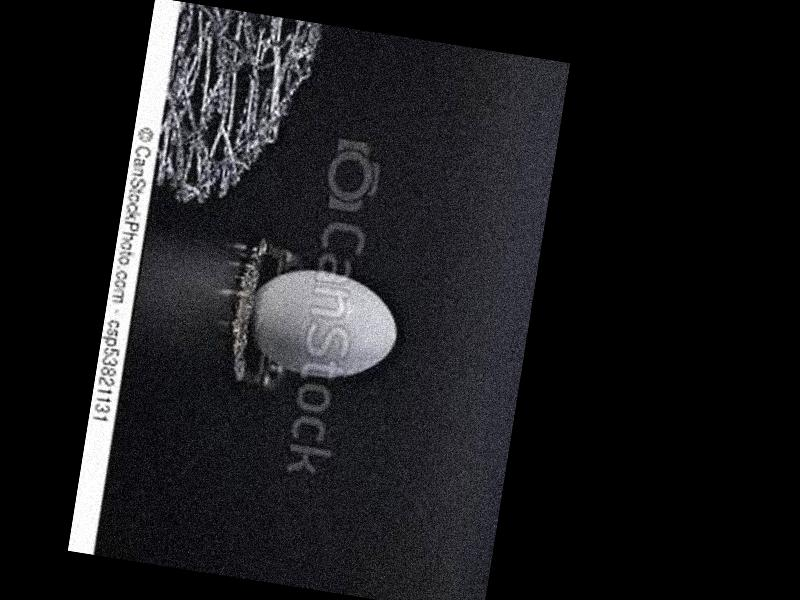Eggs: (242, 260, 404, 388)
